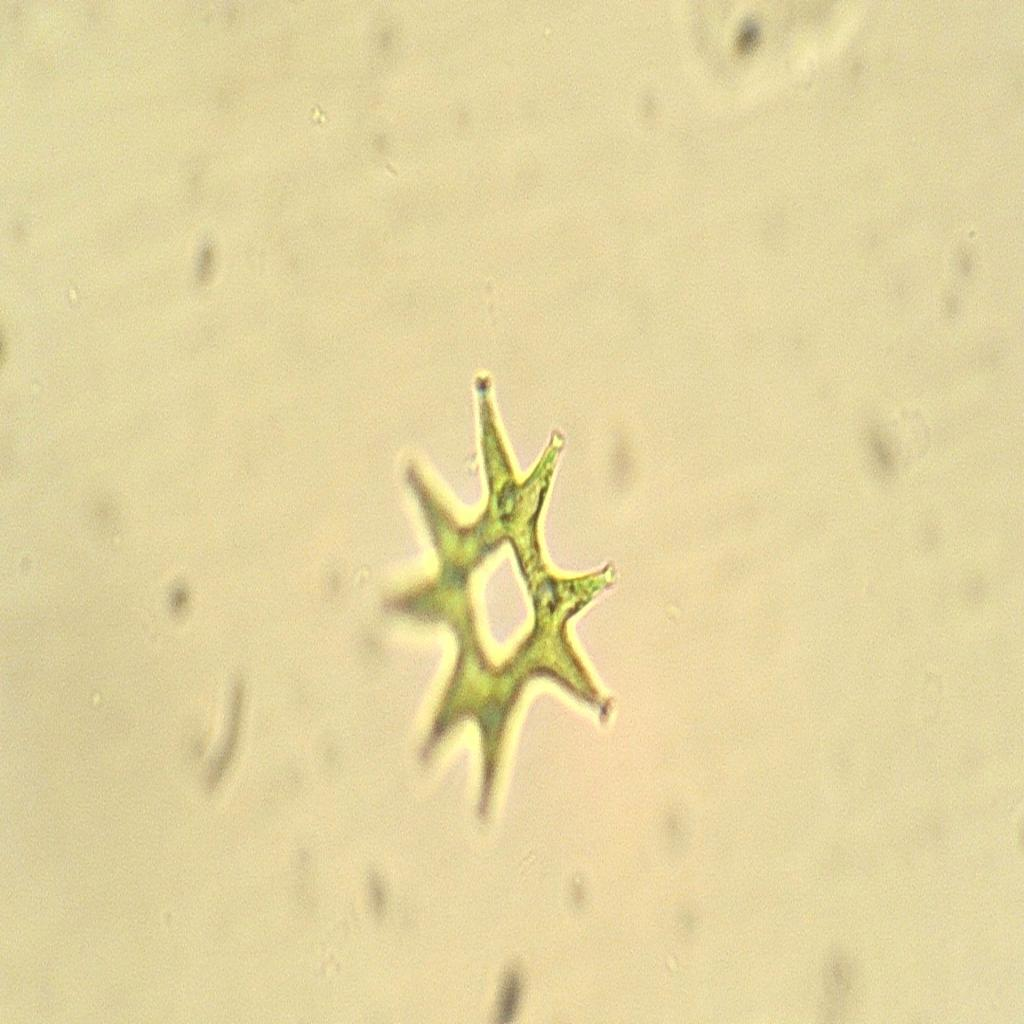Pediastrum_75O: (369, 352, 636, 853)
